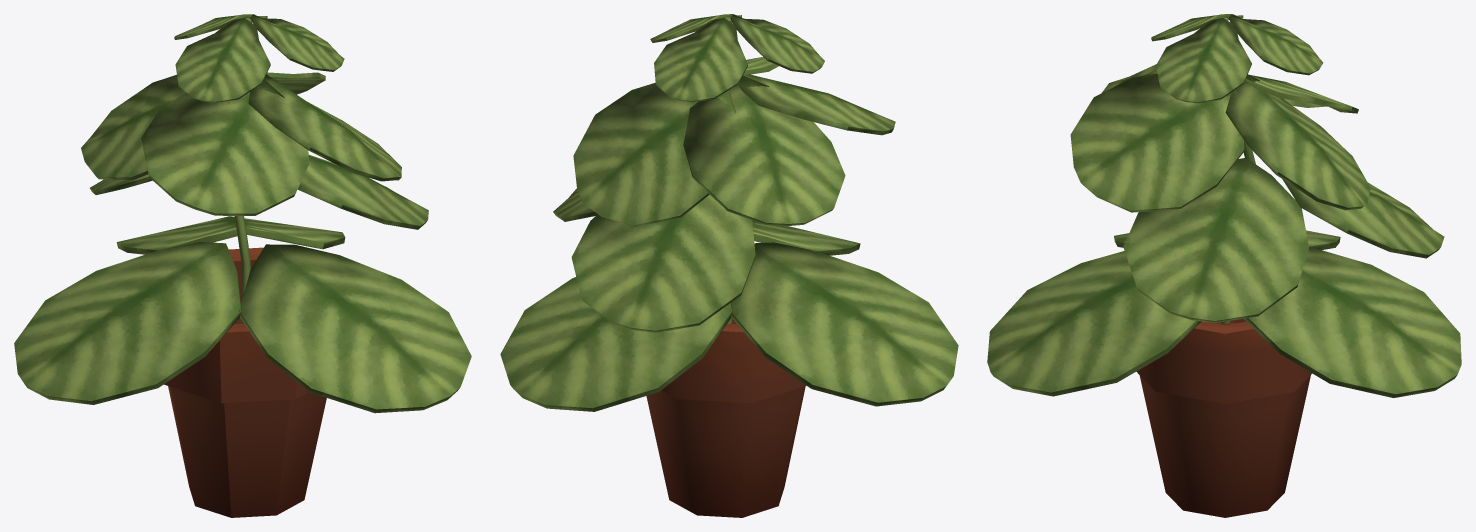
File: BigPlant01.glb
3 renders of one model, left to right at view 1: azimuth 30°, elevation 25°; view 2: azimuth 150°, elevation 25°; view 3: azimuth 270°, elevation 25°, orthographic.
Parts seen in each view (by area): view 1: PlantBig; view 2: PlantBig; view 3: PlantBig.
Boxes of the visible parts, left/top/right/bottom form: PlantBig: left=14, top=14, right=471, bottom=517; PlantBig: left=500, top=14, right=958, bottom=517; PlantBig: left=987, top=14, right=1461, bottom=517.
Bounding box in the file's own units: 0.7514 × 0.8893 × 0.8018.
Materials: 2 (2 with a texture image).
